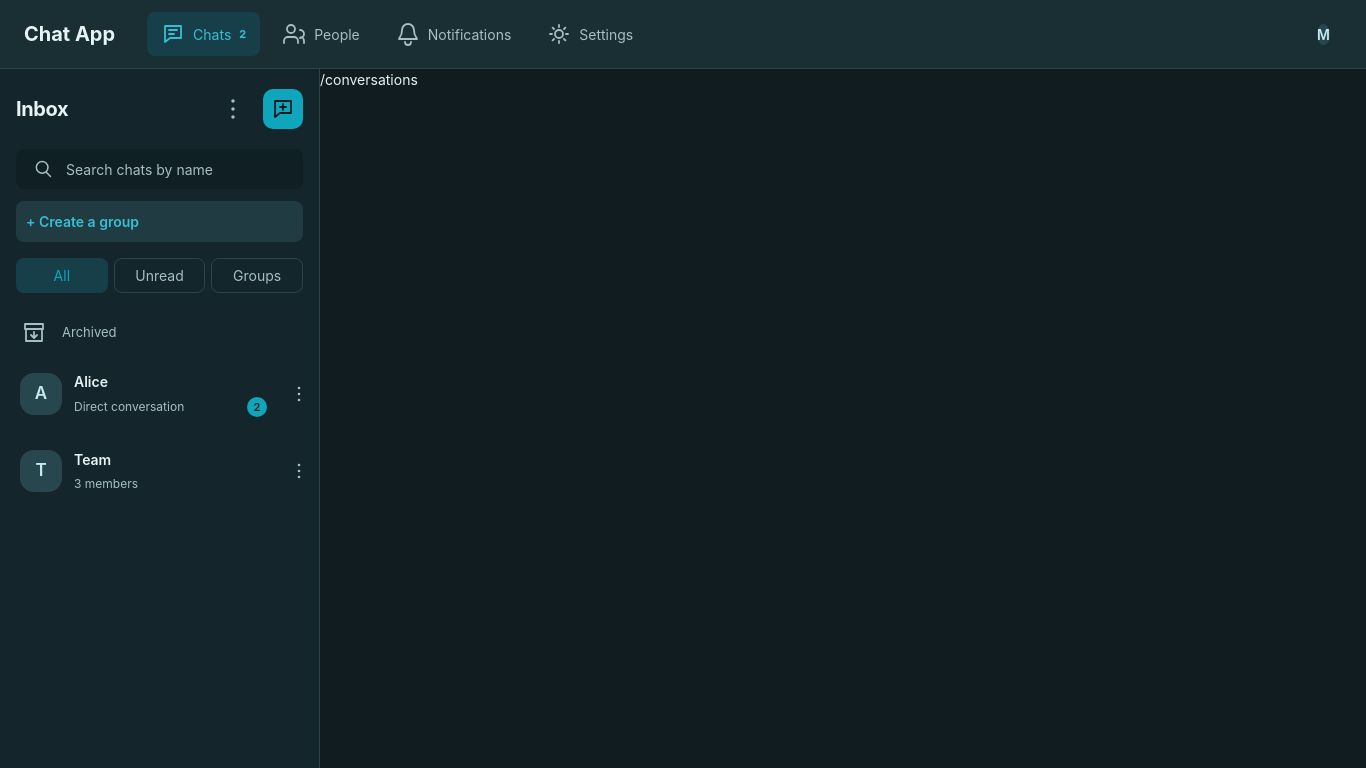
Test: shared conversation workspace › keeps search and list state mounted when opening a conversation
Expected: the text "Alice" is shown, [74,371,108,392]
Type "Ali" into the field labelled "Search chats" at (176, 169), box [66,150,286,188]
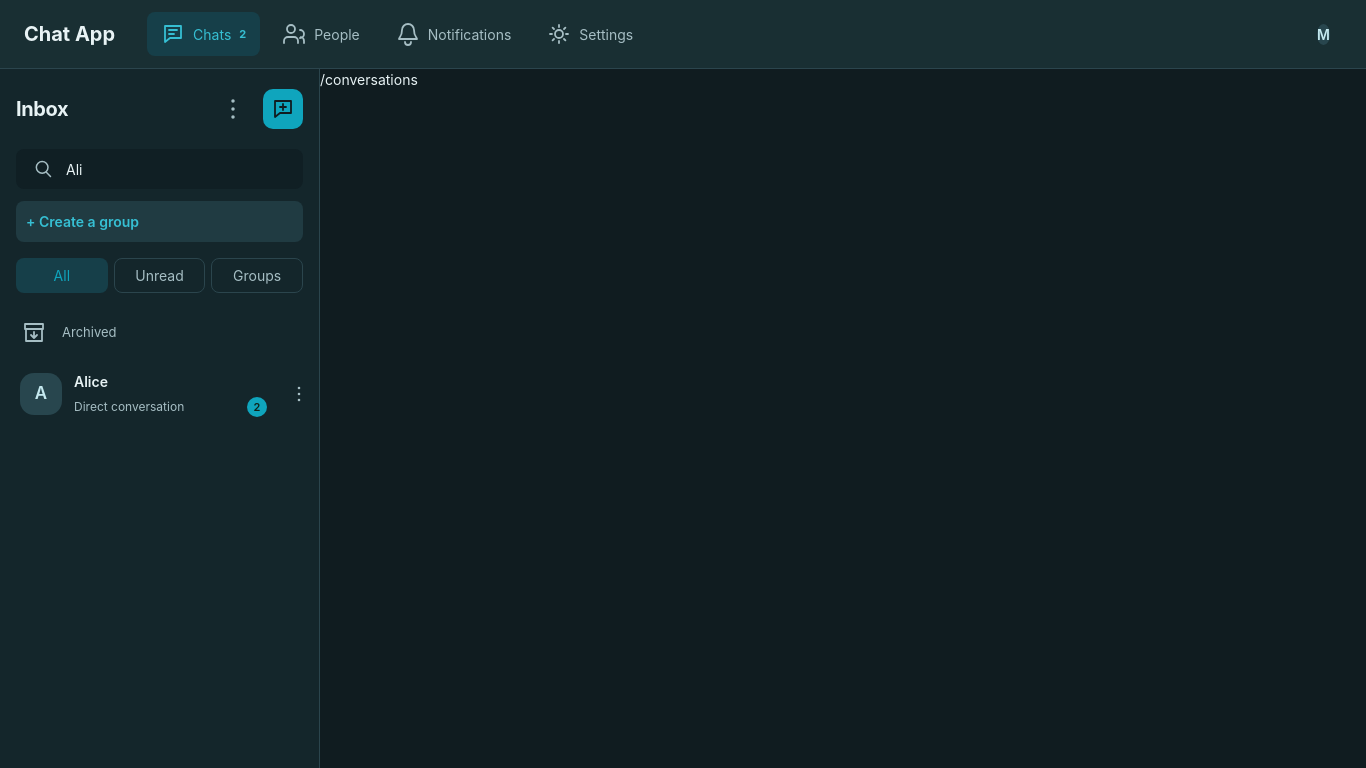
Click the text "Alice" at (91, 382), box [74,371,108,392]
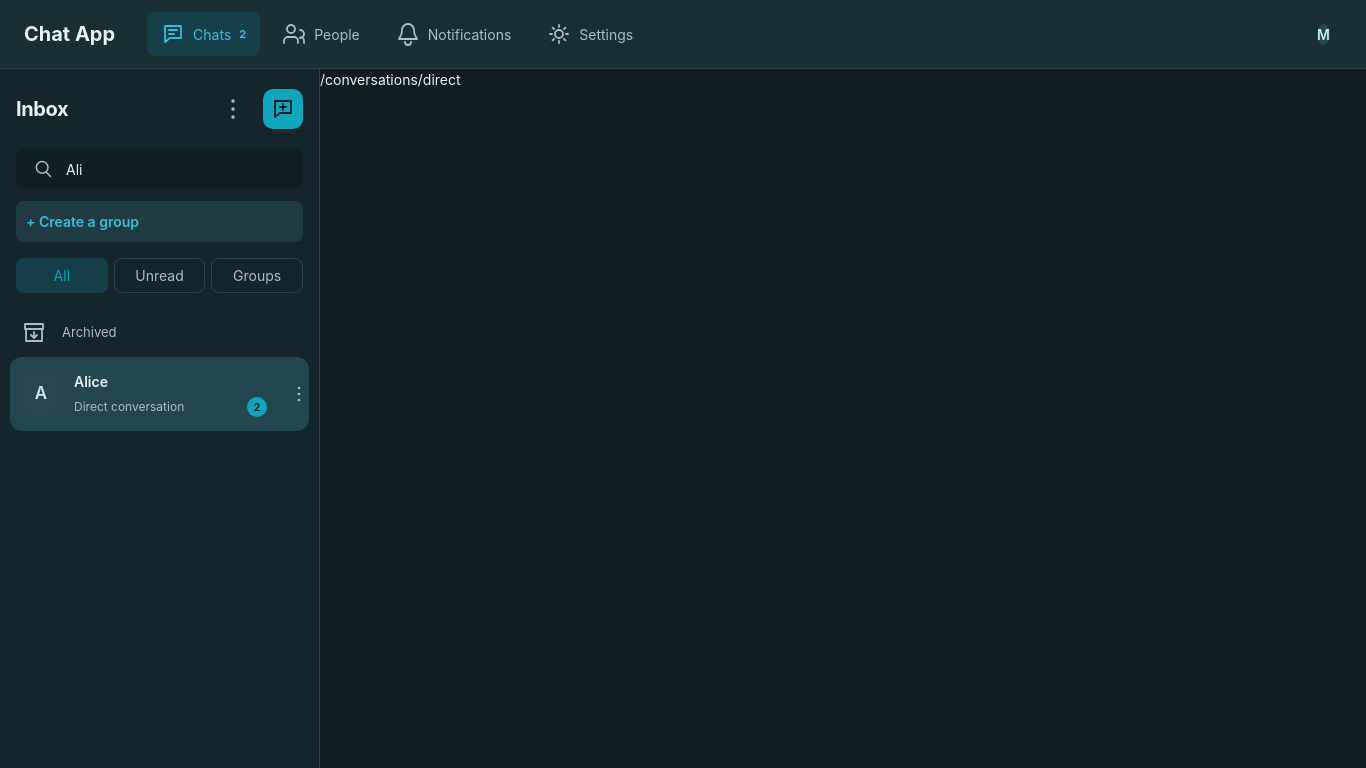
Result: the text with test id "pane" reads "/conversations/direct" at [320,71,461,88]
